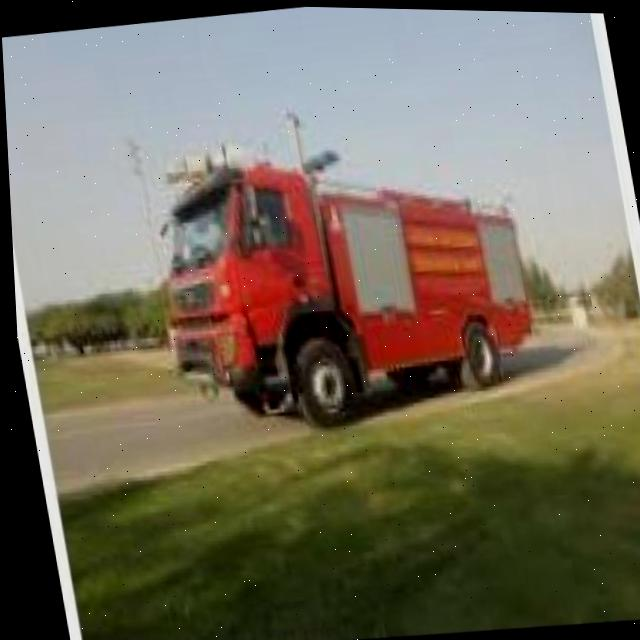emergency: (126, 97, 546, 447)
